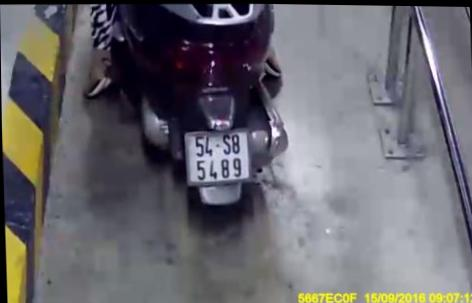LP: (184, 130, 252, 183)
